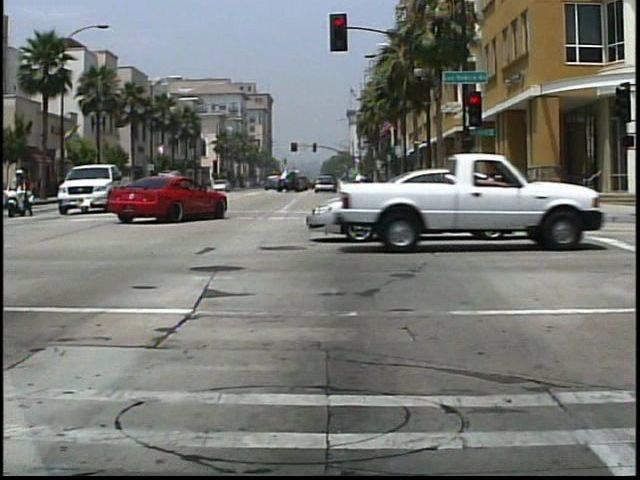person: (3, 167, 34, 220)
